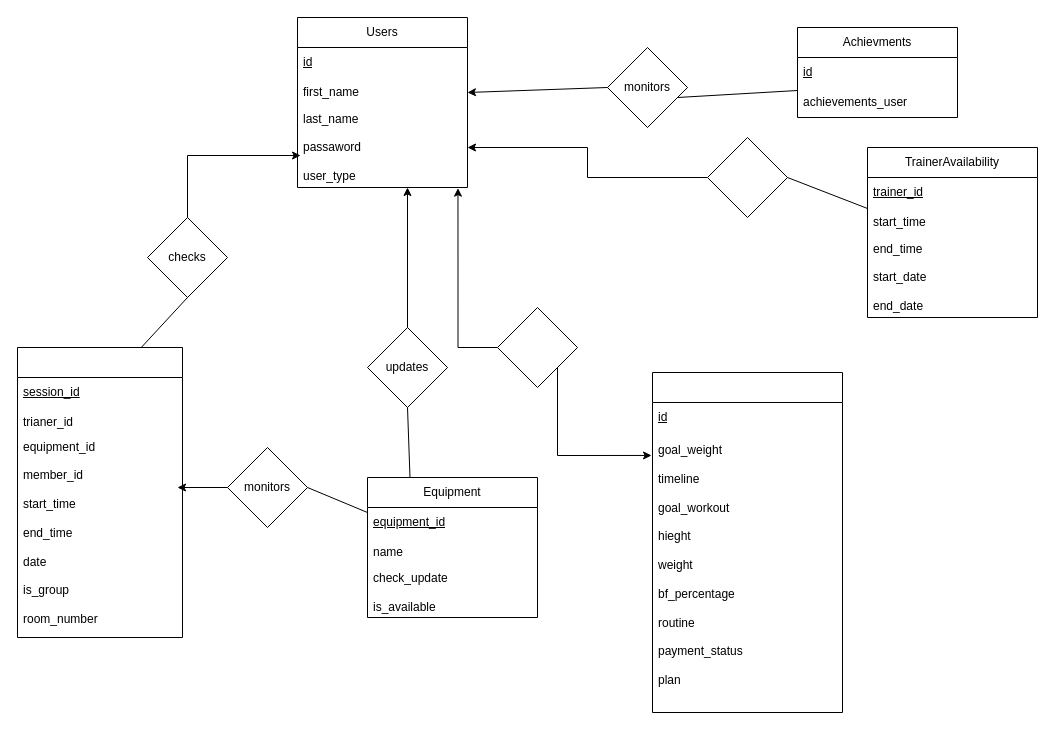
Some shapes in this 1055 by 730 pixel diagram are drawn without their labels. Here are the shapes that lost their labels. From the top down, the box of each, then its label:
(706, 136, 788, 218): update
(496, 306, 578, 388): Has
(16, 346, 182, 638): Sessions
(652, 372, 842, 712): MemberAttributes
